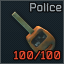Police truck cabin key: (0, 0, 64, 64)
